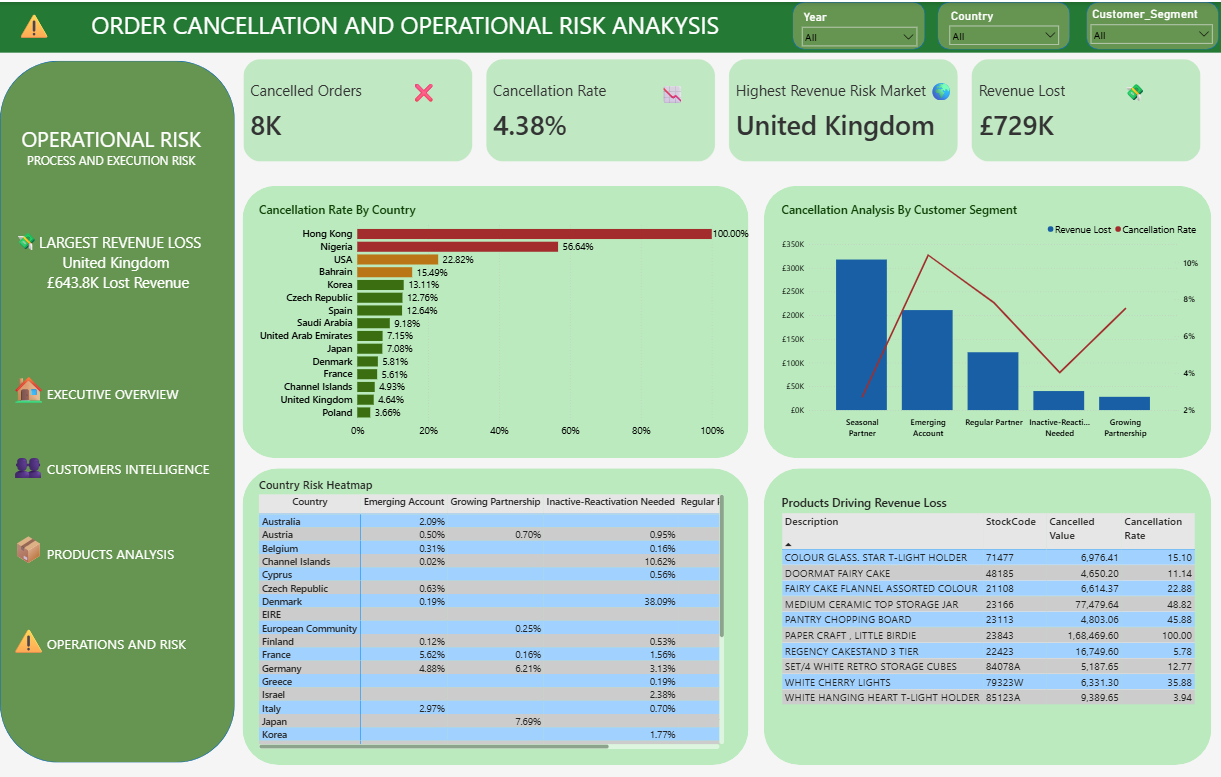

The dashboard page shown, as its layout file describes it:
{"tool":"powerbi","page":{"name":"Operations And Risk","canvas":[2200,1400],"ordinal":3},"visuals":[{"type":"shape","box":[0,105.1,422.6,1263.3],"z":0},{"type":"textbox","box":[0,0,2200.4,91.2],"z":1000},{"type":"textbox","box":[26.3,216.8,345.9,109.5],"z":2000},{"type":"textbox","box":[15.3,402.9,356.9,127],"z":3000},{"type":"textbox","box":[14.5,657.7,373.4,83],"z":4000},{"type":"textbox","box":[14.5,792.5,410.8,93.4],"z":5000},{"type":"textbox","box":[14.5,944,356.8,93.4],"z":6000},{"type":"textbox","box":[14.5,1107.9,373.4,95.4],"z":7000},{"type":"cardVisual","fields":{"Data":["Dim_Date.Total_Cancelled_Orders","_Measures.Cancellation_Rate_Pct","_Measures.Highest_Risk_Country","_Measures.Total_Revenue_Lost"]},"box":[427,92,1745,205.8],"z":8000},{"type":"shape","box":[435.7,330.6,910.8,490.4],"z":9000},{"type":"shape","box":[435.7,838.6,910.8,534.2],"z":10000},{"type":"shape","box":[1375,330.6,805.7,490.4],"z":11000},{"type":"shape","box":[1375,838.6,805.7,534.2],"z":12000},{"type":"clusteredBarChart","title":"Cancellation Rate By Country","fields":{"Y":["Dim_Date.Cancellation_Rate_By_Country"],"Category":["vw_Cancellations_Only.Country"]},"box":[462,356.9,913,435.7],"z":13000},{"type":"lineClusteredColumnComboChart","title":"Cancellation Analysis By Customer Segment","fields":{"Y":["_Measures.Total_Revenue_Lost"],"Y2":["_Measures.Cancellation_Rate_Pct"],"Category":["vw_Customer_RFM_Segments.WholeSale_Segment"]},"box":[1401.3,356.9,761.9,435.7],"z":14000},{"type":"pivotTable","title":"Country Risk Heatmap","fields":{"Rows":["vw_Cancellations_Only.Country"],"Columns":["vw_Customer_RFM_Segments.WholeSale_Segment"],"Values":["Dim_Date.Segment_Cancellation_Rate"]},"box":[462,856.1,847.3,494.8],"z":15000},{"type":"tableEx","title":"Products Driving Revenue Loss","fields":{"Values":["vw_Cancellations_Only.Description","vw_Cancellations_Only.StockCode","Sum(vw_Cancellations_Only.Cancelled_Value)","vw_Cancellations_Only.Product_Cancellation_Rate"]},"box":[1401.3,886.7,779.5,409.4],"z":16000},{"type":"textbox","box":[735.7,135.7,61.3,56.9],"z":17000},{"type":"textbox","box":[1184.5,120.4,61.3,72.3],"z":18000},{"type":"textbox","box":[1666.2,133.6,76.6,59.1],"z":19000},{"type":"textbox","box":[2016.5,135.7,76.6,59.1],"z":20000},{"type":"shape","box":[1427.6,0,238.7,85.4],"z":21000},{"type":"shape","box":[1688.1,0,238.7,85.4],"z":22000},{"type":"shape","box":[1955.2,0,238.7,85.4],"z":23000},{"type":"slicer","fields":{"Values":["Dim_Date.Year"]},"box":[1433.2,8.2,227.6,82],"z":24000},{"type":"slicer","fields":{"Values":["Dim_Country.Country"]},"box":[1699.8,6.2,217.3,75.9],"z":25000},{"type":"slicer","fields":{"Values":["vw_Customer_RFM_Segments.WholeSale_Segment"]},"box":[1954,4.1,239.9,80],"z":26000}]}

Visuals, with their boxes in screenshot pixels (x1, y1, x2, y2), scaled from the page's 2200x1400 canvas onto the 1221x777 screenshot:
shape: [0, 58, 235, 759]
textbox: [0, 0, 1220, 51]
textbox: [15, 120, 207, 181]
textbox: [8, 224, 207, 294]
textbox: [8, 365, 215, 411]
textbox: [8, 440, 236, 492]
textbox: [8, 524, 206, 576]
textbox: [8, 615, 215, 668]
cardVisual - Dim_Date.Total_Cancelled_Orders x _Measures.Cancellation_Rate_Pct: [237, 51, 1205, 165]
shape: [242, 183, 747, 456]
shape: [242, 465, 747, 762]
shape: [763, 183, 1210, 456]
shape: [763, 465, 1210, 762]
"Cancellation Rate By Country" clusteredBarChart: [256, 198, 763, 440]
"Cancellation Analysis By Customer Segment" lineClusteredColumnComboChart: [778, 198, 1201, 440]
"Country Risk Heatmap" pivotTable: [256, 475, 727, 750]
"Products Driving Revenue Loss" tableEx: [778, 492, 1210, 719]
textbox: [408, 75, 442, 107]
textbox: [657, 67, 691, 107]
textbox: [925, 74, 967, 107]
textbox: [1119, 75, 1162, 108]
shape: [792, 0, 925, 47]
shape: [937, 0, 1069, 47]
shape: [1085, 0, 1218, 47]
slicer - Dim_Date.Year: [795, 5, 922, 50]
slicer - Dim_Country.Country: [943, 3, 1064, 46]
slicer - vw_Customer_RFM_Segments.WholeSale_Segment: [1084, 2, 1218, 47]
